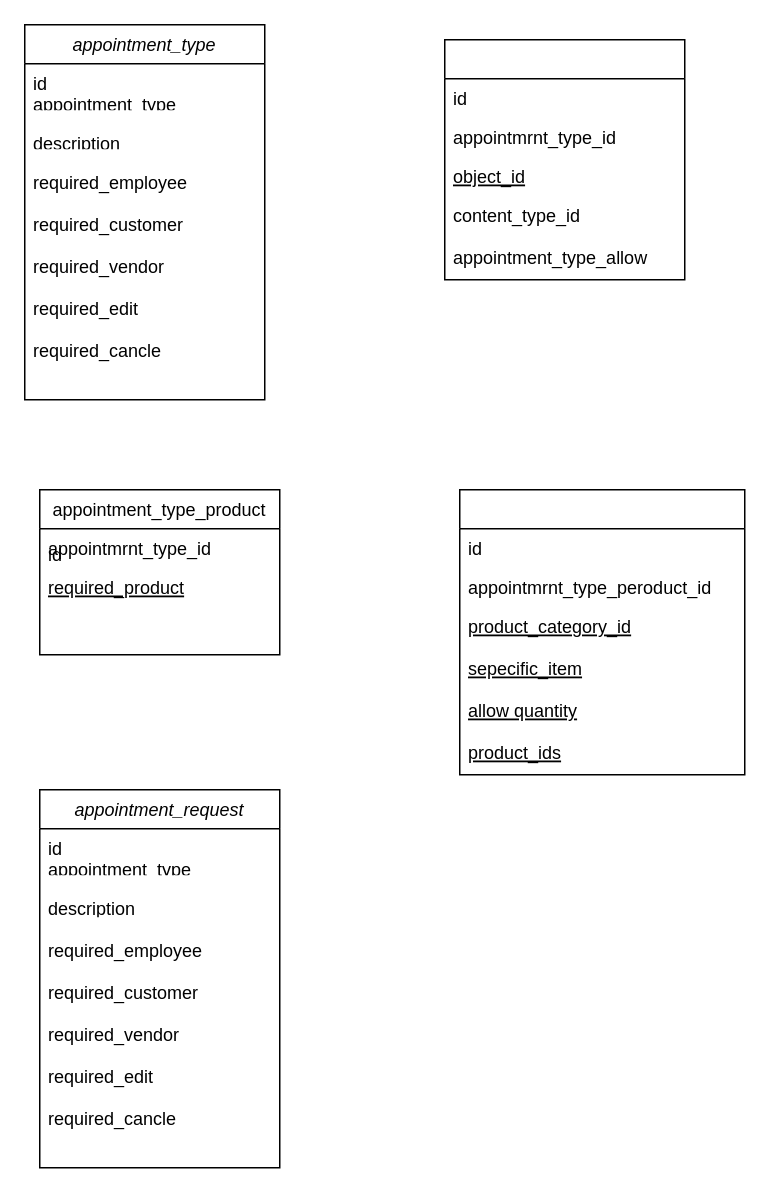
Some shapes in this 770 by 1193 pixel diagram are drawn without their labels. Each missing label, with the box of its shape:
appointment_type_detail: (443, 38, 685, 280)
appointment_type_product_detail: (458, 488, 745, 775)
